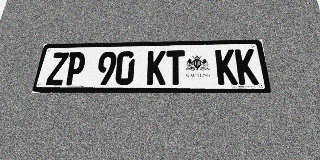0: (114, 51, 135, 85)
9: (96, 51, 117, 85)
K: (235, 49, 259, 85), (215, 49, 238, 85), (146, 51, 166, 85)
P: (63, 52, 87, 85)
T: (166, 50, 185, 85)
Z: (45, 52, 69, 85)
